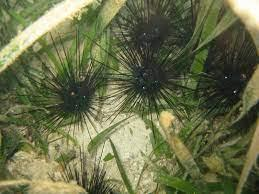urchin: (16, 39, 105, 122), (105, 37, 176, 126), (192, 50, 259, 118), (111, 3, 191, 52), (49, 147, 125, 194)
